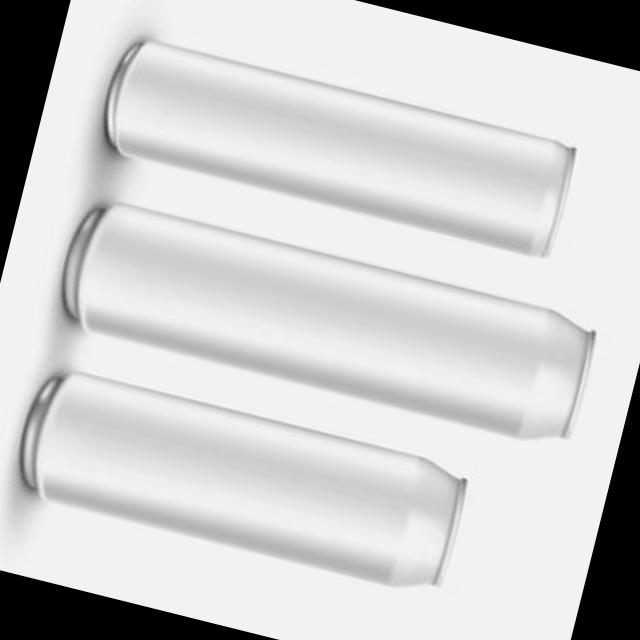metal: (67, 202, 598, 435), (110, 39, 578, 253), (25, 371, 469, 583)
